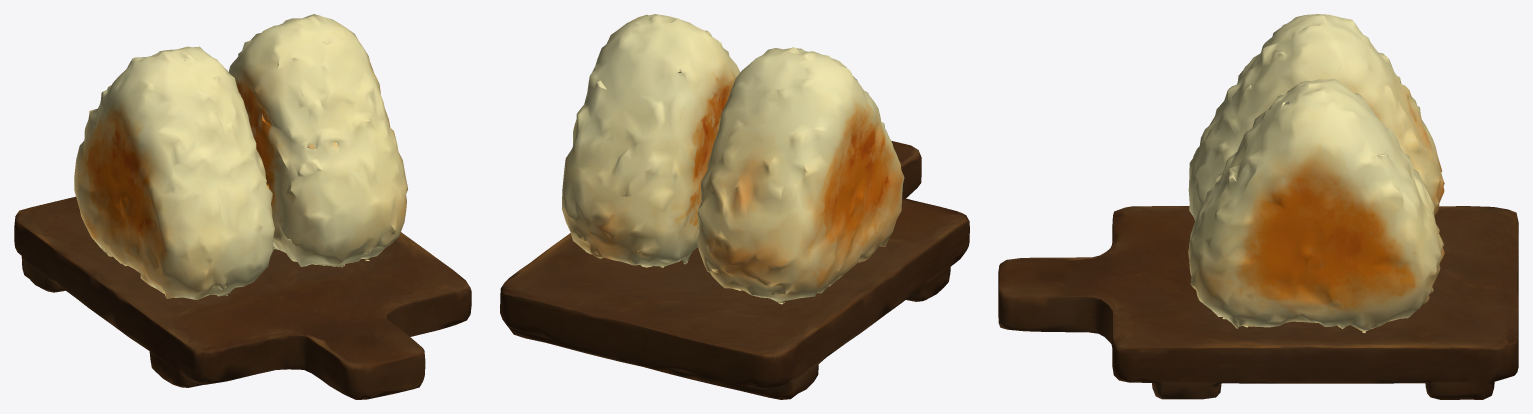
File: yaki_onigiri.glb
3 renders of one model, left to right at view 1: azimuth 30°, elevation 25°; view 2: azimuth 150°, elevation 25°; view 3: azimuth 270°, elevation 25°, orthographic. The views are drawn at different scales.
Parts seen in each view (by area): view 1: world; view 2: world; view 3: world.
Boxes of the visible parts, x1,y1,x2,y2 form: world: [14, 14, 471, 399]; world: [500, 14, 969, 399]; world: [998, 14, 1518, 399].
Bounding box in the file's own units: 0.6509 × 0.5929 × 1.
1 material, 1 textured.
